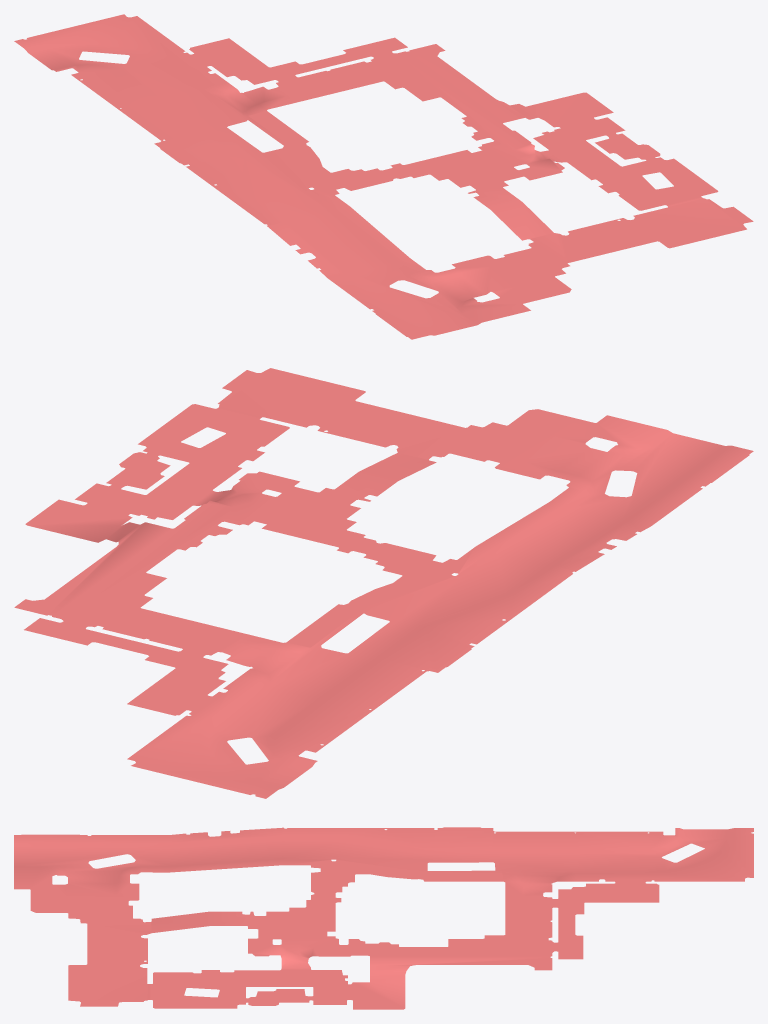
File: Prohibited_FACTORY.fbx
3 renders of one model, top to bottom at view 1: azimuth 30°, elevation 25°; view 2: azimuth 150°, elevation 25°; view 3: azimuth 270°, elevation 25°, orthographic. The views are drawn at different scales.
Parts seen in each view (by area): view 1: Factory; view 2: Factory; view 3: Factory.
Part boxes in pixels (x1=…): Factory: x1=14, y1=14, x2=753, y2=339; Factory: x1=14, y1=368, x2=753, y2=798; Factory: x1=14, y1=827, x2=753, y2=1009.
Size of the model in its own units: 51.82 by 1.2 by 92.63.
